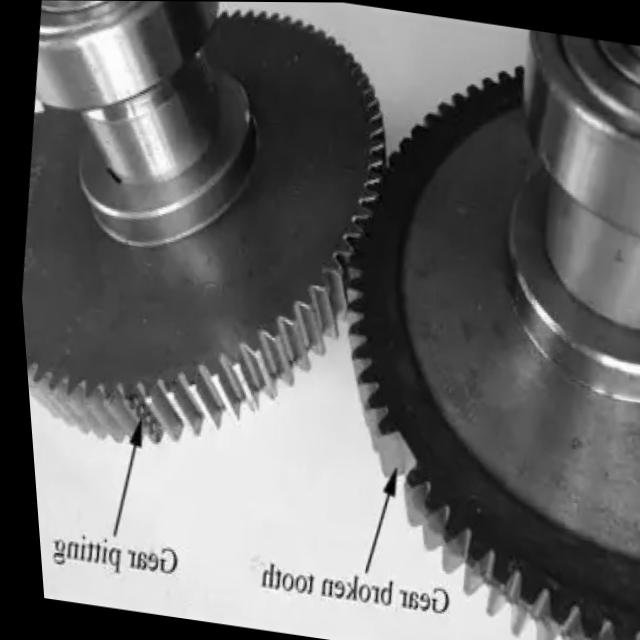Fault-Exist: (310, 323, 448, 566)
No Fault: (225, 27, 521, 315)
